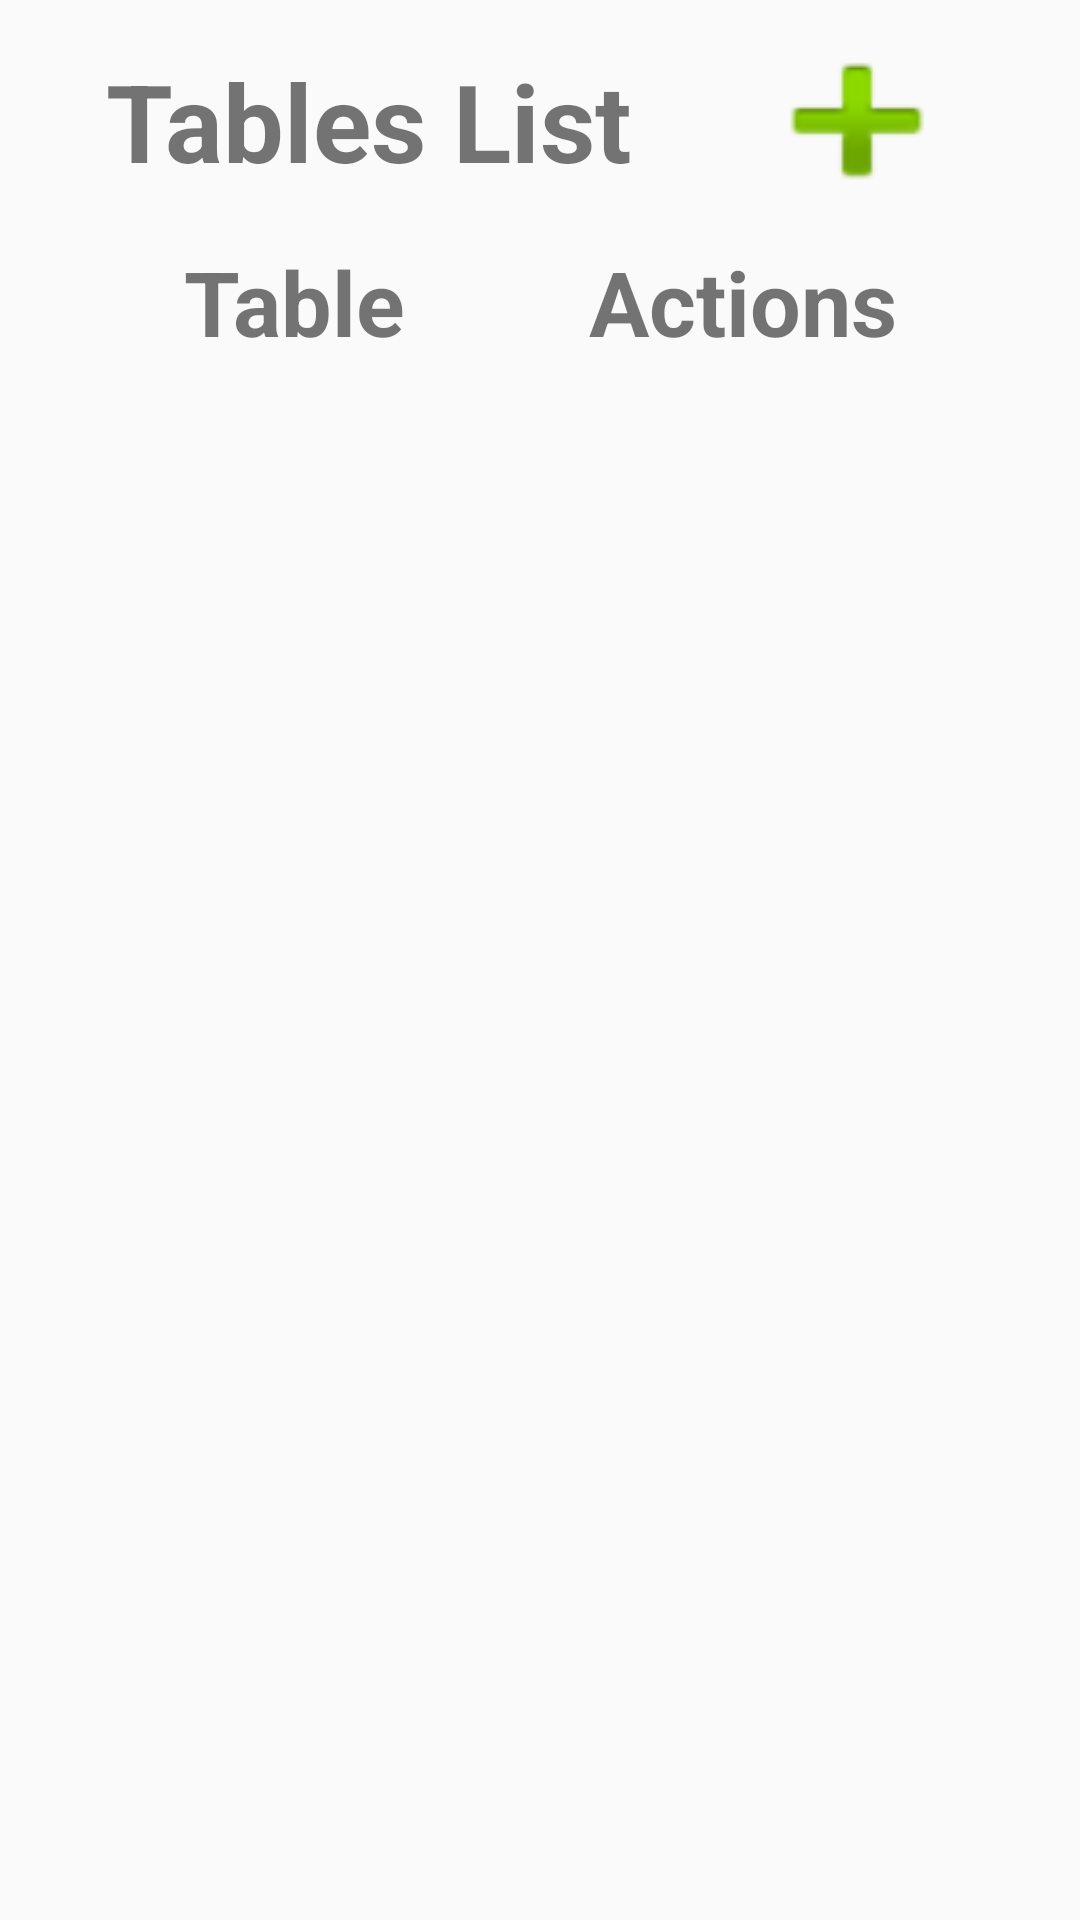

Icons on this 1080px×1920px Android screen, each with the point to tap as [x,y]:
add: [857,121]
